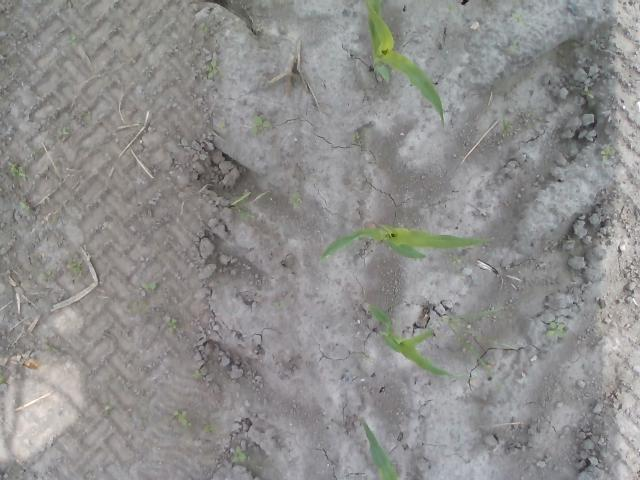Maize: (364, 0, 447, 130), (318, 222, 493, 263), (365, 300, 451, 378), (361, 419, 401, 480)
Weeds: (455, 332, 494, 370), (226, 191, 256, 221), (247, 114, 273, 136), (544, 320, 568, 337), (464, 308, 496, 320), (6, 161, 26, 178), (205, 59, 221, 80), (231, 447, 251, 462), (175, 410, 192, 427), (66, 256, 82, 272), (287, 190, 301, 208), (498, 118, 514, 132), (600, 146, 616, 160), (440, 314, 457, 326), (57, 127, 69, 142), (191, 370, 206, 382), (101, 400, 112, 416), (66, 34, 78, 48), (271, 301, 289, 310), (143, 281, 161, 289), (18, 200, 32, 210), (167, 318, 177, 328), (198, 22, 208, 32), (582, 86, 592, 96), (450, 256, 462, 264), (206, 424, 216, 433), (513, 14, 523, 22), (352, 132, 361, 140), (47, 272, 55, 280)
